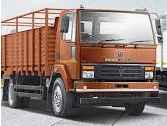truck: (1, 1, 161, 125)
